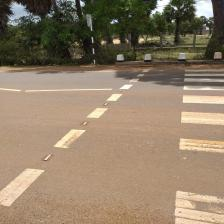crossing: (1, 66, 223, 208), (0, 168, 45, 206), (53, 128, 86, 148), (182, 95, 223, 104), (86, 107, 108, 118)
